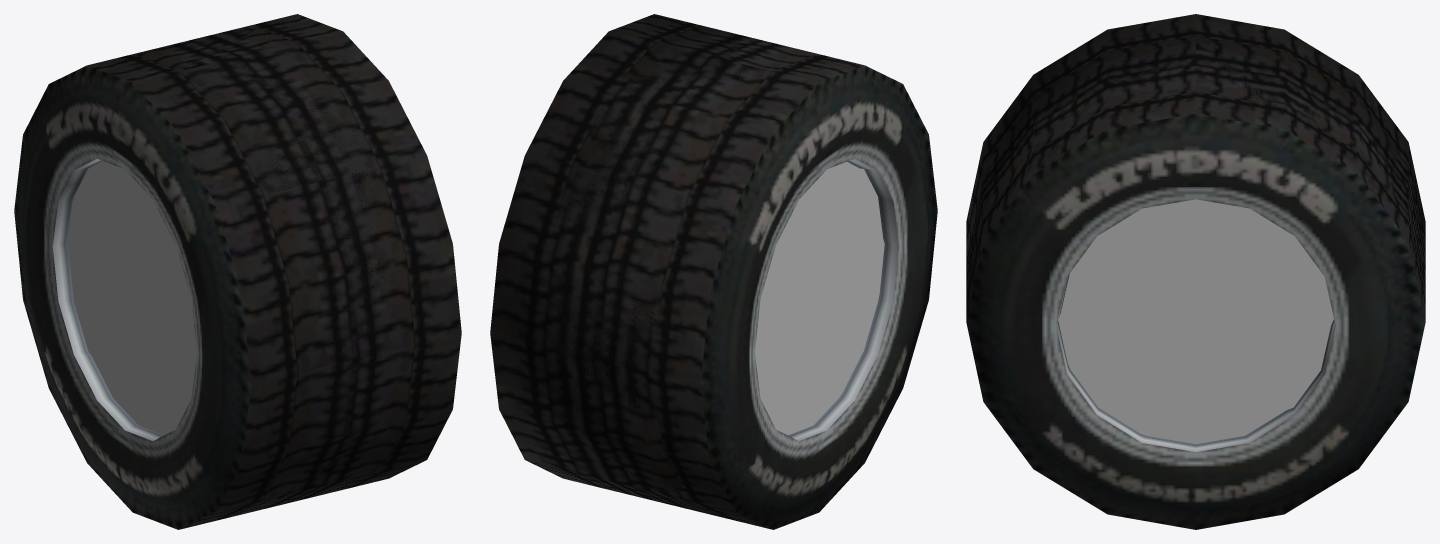
Rendered from tire_7_out.fbx.
The picture shows the model from 3 angles, left to right: view 1: azimuth 30°, elevation 25°; view 2: azimuth 150°, elevation 25°; view 3: azimuth 270°, elevation 25°; orthographic projection. The views are drawn at different scales.
Parts seen in each view (by area): view 1: tire_rr, tire_rl, tire_rr_shadow; view 2: tire_rr, tire_rl, tire_rr_shadow; view 3: tire_rl, tire_rl_shadow, tire_rr.
Part boxes in pixels (x1,y1,x2,y2): tire_rr: [14, 28, 415, 529]; tire_rl: [133, 14, 461, 518]; tire_rr_shadow: [67, 161, 196, 435]; tire_rr: [538, 25, 937, 529]; tire_rl: [490, 14, 818, 518]; tire_rr_shadow: [755, 162, 884, 435]; tire_rl: [966, 36, 1425, 529]; tire_rl_shadow: [1058, 199, 1333, 443]; tire_rr: [966, 14, 1425, 298].
Bounding box in the file's own units: 0.4123 × 0.7199 × 0.7199.
